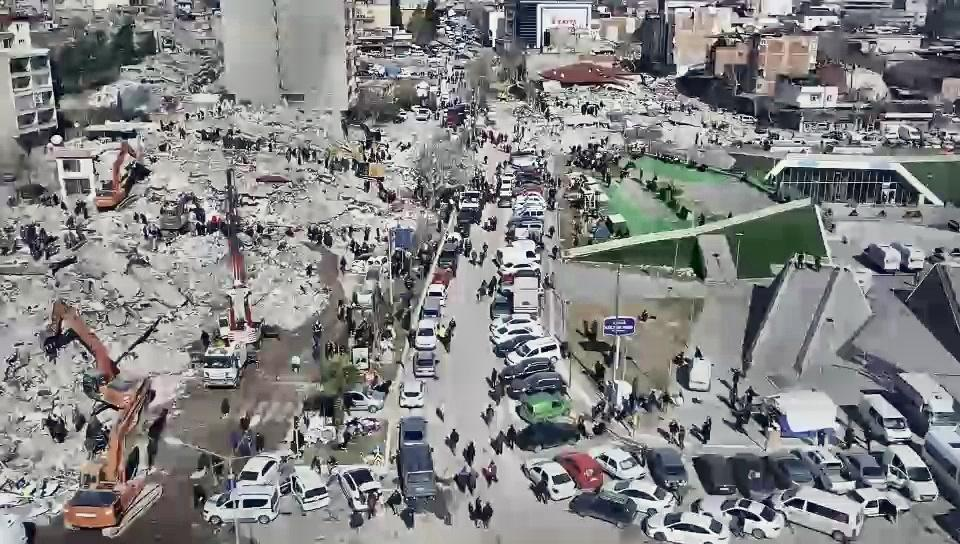kapali: (162, 119, 461, 358)
